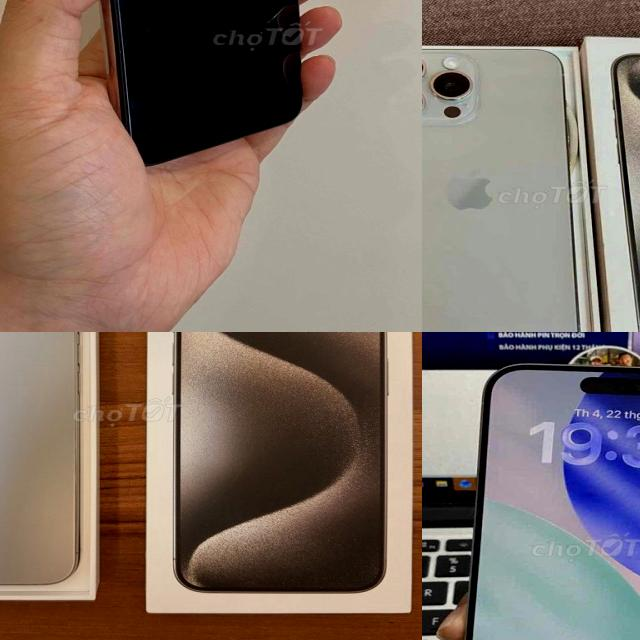scratch: (142, 27, 156, 52)
